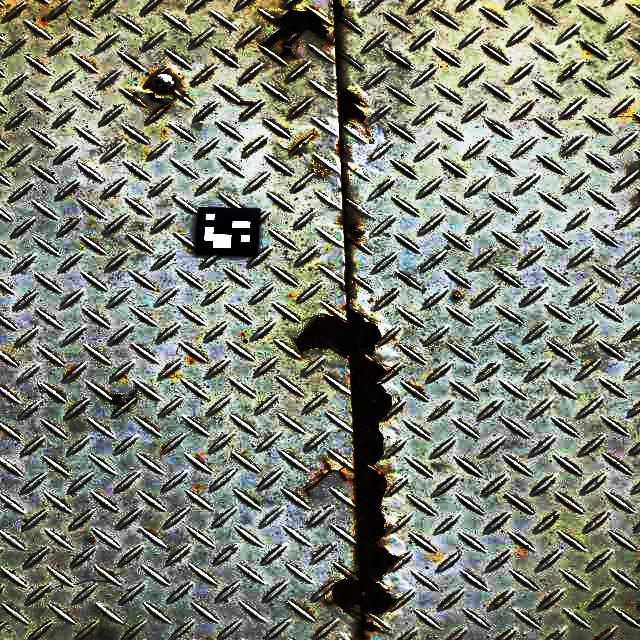Corrosion: (295, 310, 399, 640), (265, 9, 328, 56), (339, 87, 366, 122), (345, 213, 366, 238), (145, 88, 169, 103), (334, 0, 345, 16), (335, 138, 344, 156)
